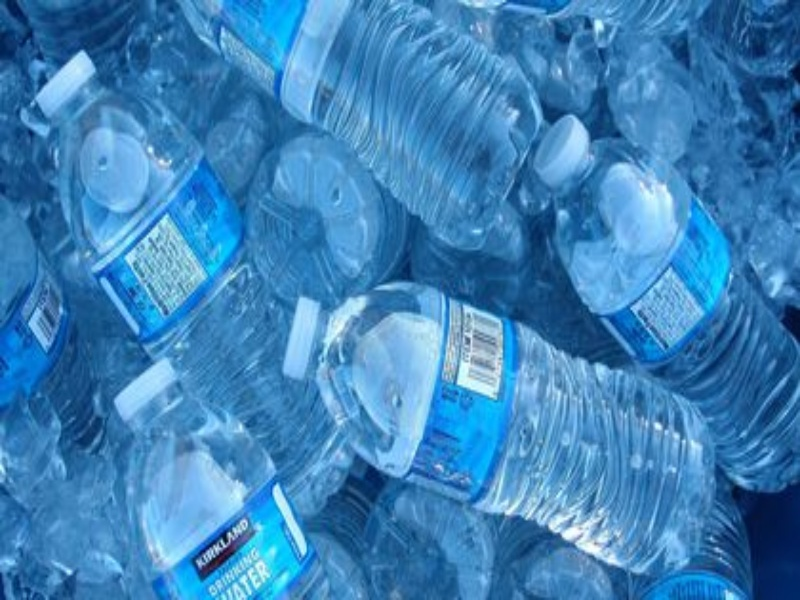Plastic bottle: (253, 243, 728, 576), (23, 58, 371, 486), (514, 91, 797, 500), (52, 352, 355, 600)
